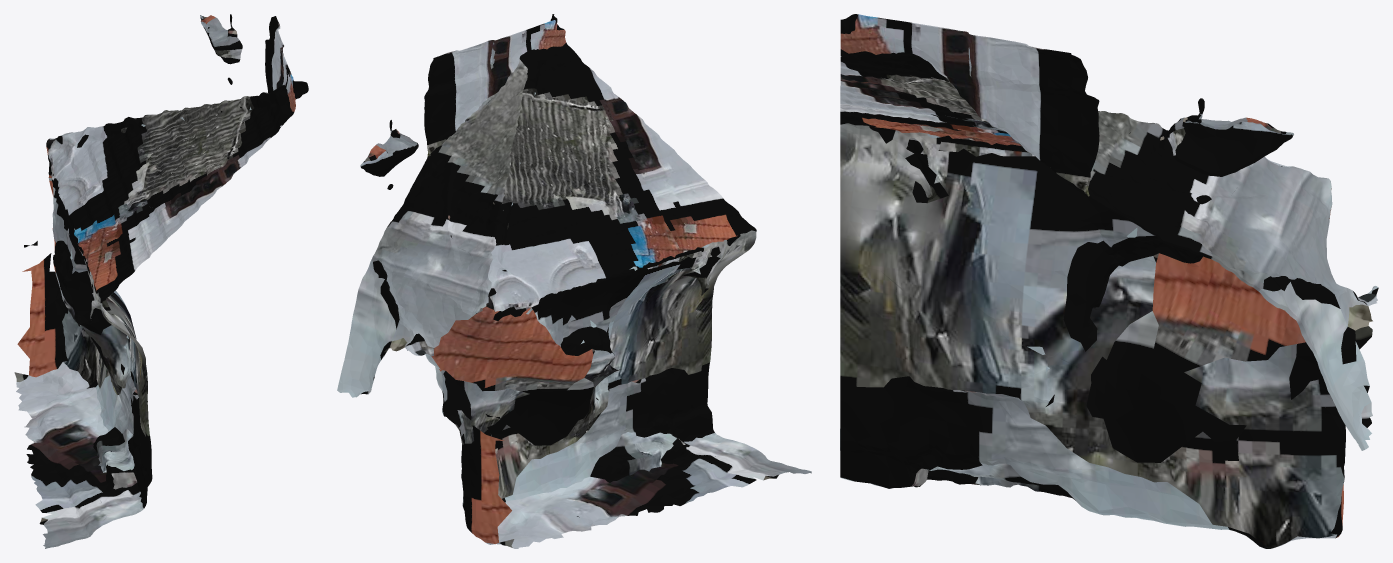
3 views of the same model, side by side, from view 1: azimuth 30°, elevation 25°; view 2: azimuth 150°, elevation 25°; view 3: azimuth 270°, elevation 25° (orthographic). The views are drawn at different scales.
Parts seen in each view (by area): view 1: node_63; view 2: node_63; view 3: node_63.
Part boxes in pixels (x1=…): node_63: x1=14, y1=14, x2=308, y2=548; node_63: x1=337, y1=14, x2=811, y2=548; node_63: x1=840, y1=14, x2=1378, y2=548.
Size of the model in its own units: 5.32 by 6.66 by 5.38.
1 material, 1 textured.
